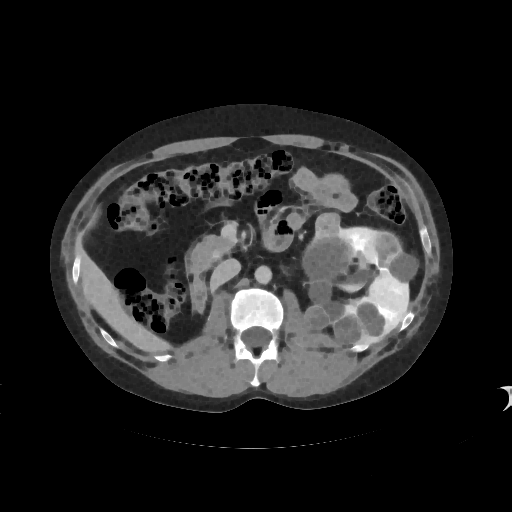Lesion: (298, 304, 330, 338)
